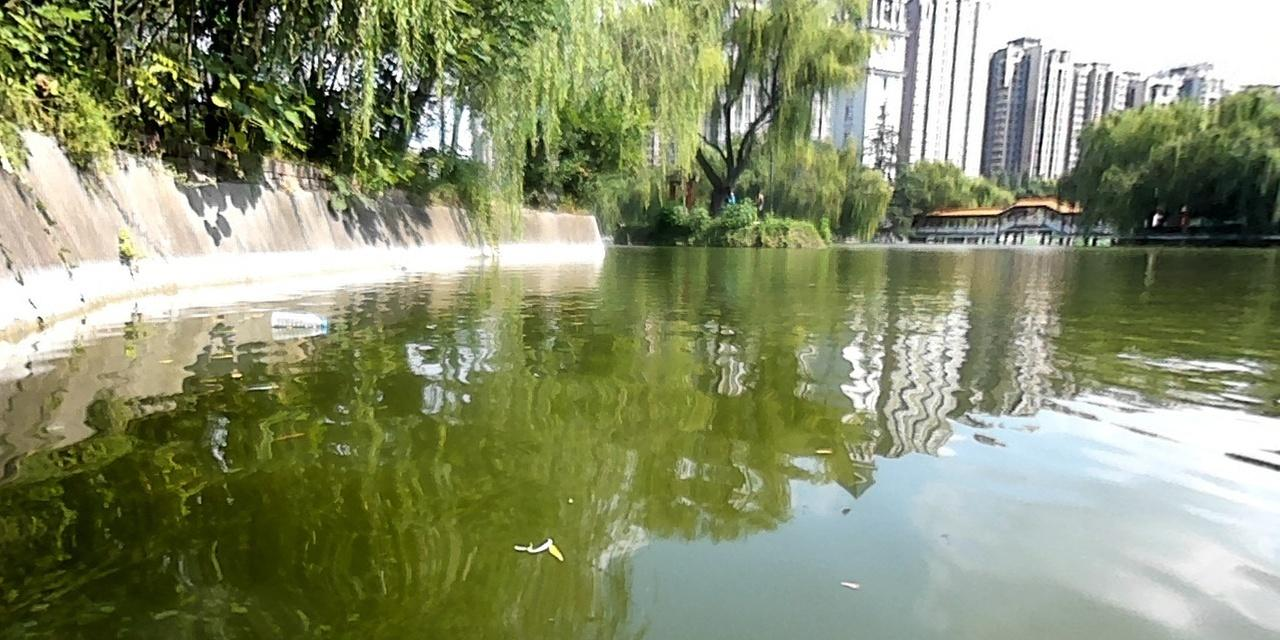bottle: (269, 309, 326, 329)
